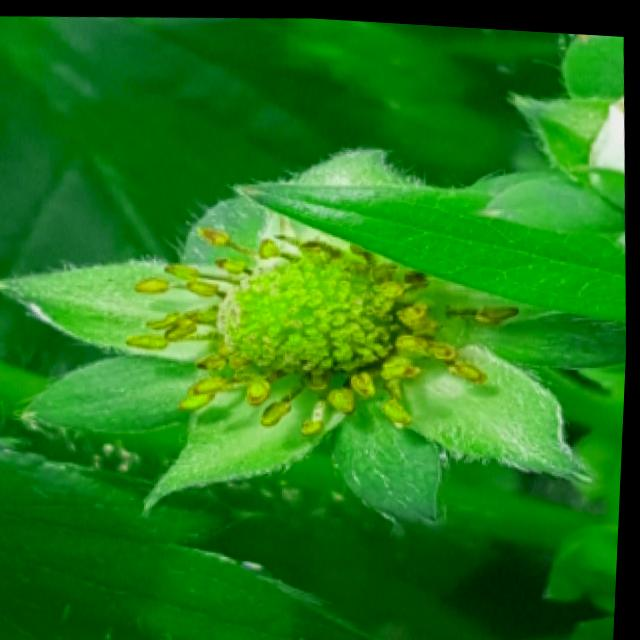Blossom Blight: (124, 215, 523, 439)
